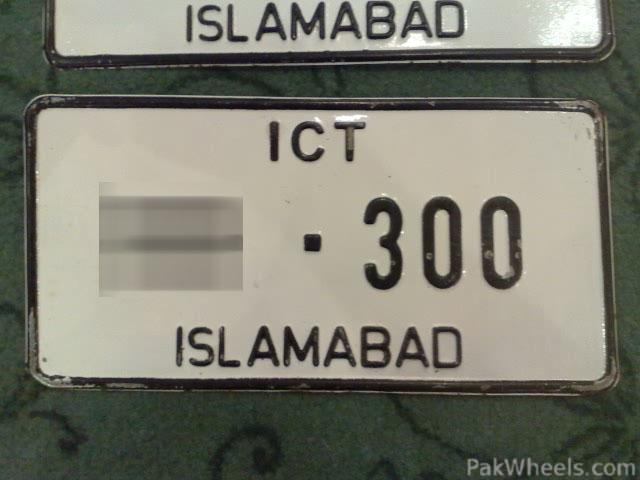0: (415, 193, 471, 292), (477, 194, 528, 292)
3: (359, 194, 412, 294)
A: (390, 322, 431, 371), (320, 324, 358, 371), (245, 322, 282, 370), (254, 1, 288, 47), (328, 1, 363, 43), (398, 1, 434, 40)
B: (355, 321, 394, 370), (363, 1, 398, 43)
C: (290, 119, 328, 164)
D: (428, 321, 466, 372), (431, 1, 469, 41)
I: (264, 119, 286, 164), (172, 322, 187, 368), (182, 3, 195, 43)
L: (214, 321, 244, 372), (222, 1, 252, 45)
M: (282, 321, 322, 370), (287, 1, 329, 44)
S: (187, 321, 217, 370), (193, 2, 225, 43)
T: (333, 117, 366, 165)
